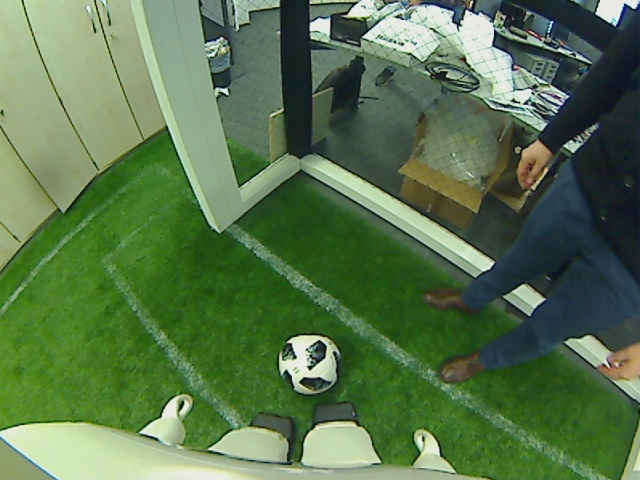ball: (278, 331, 340, 394)
